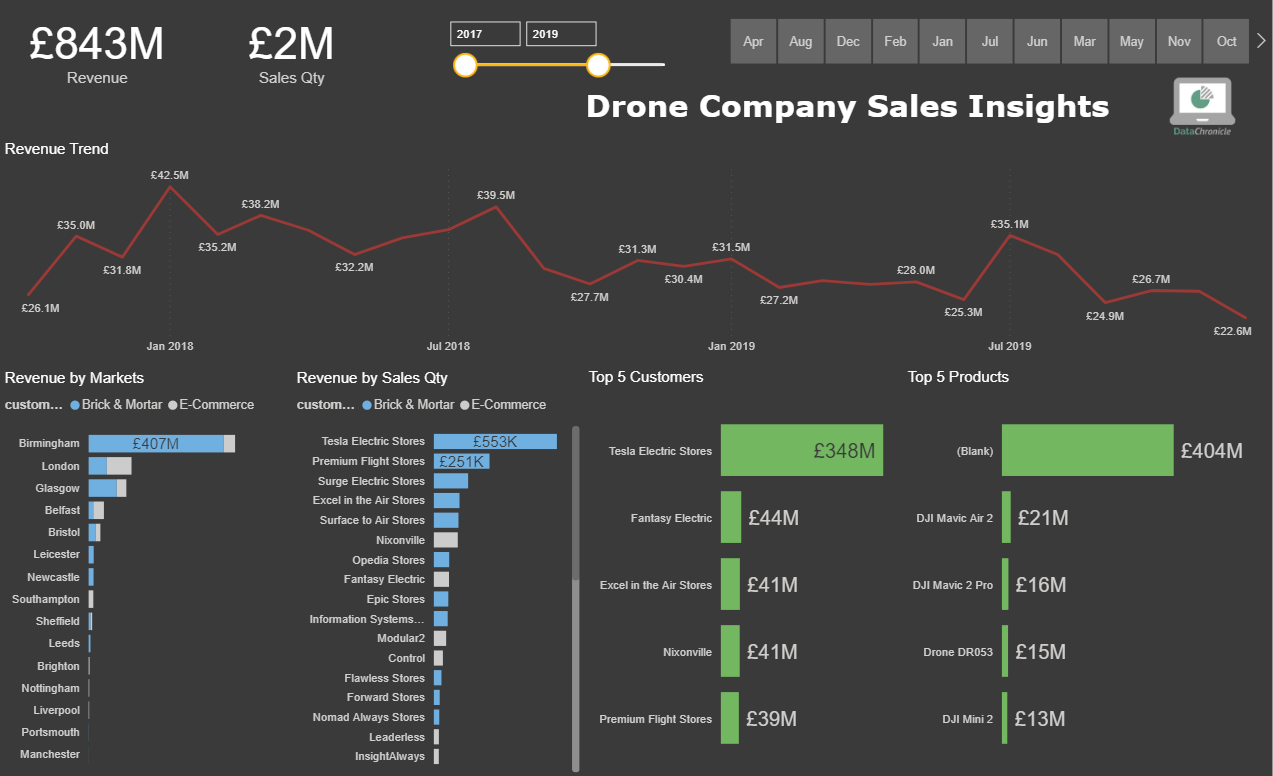

The dashboard page shown, as its layout file describes it:
{"tool":"powerbi","page":{"name":"Key Insights","canvas":[1340,820],"ordinal":0},"visuals":[{"type":"card","fields":{"Values":["base measures.Revenue"]},"box":[0,1,205.2,101.5],"z":0},{"type":"card","fields":{"Values":["base measures.Sales Qty"]},"box":[205.2,1,204.1,101.5],"z":1000},{"type":"barChart","title":"Revenue by Markets","fields":{"Y":["base measures.Revenue"],"Category":["sales markets.markets_name"],"Series":["sales customers.customer_type"]},"box":[0,390.5,307.6,429.5],"z":2000},{"type":"barChart","title":"Revenue by Sales Qty","fields":{"Y":["base measures.Sales Qty"],"Category":["sales customers.custmer_name"],"Series":["sales customers.customer_type"]},"box":[307.6,390.5,307.6,429.5],"z":3000},{"type":"slicer","fields":{"Values":["sales date.year"]},"box":[461.6,13.9,259.7,74.8],"z":4000},{"type":"barChart","title":"Top 5 Customers","fields":{"Y":["base measures.Revenue"],"Category":["sales customers.custmer_name"]},"box":[615.5,390,346.2,429.6],"z":5000},{"type":"barChart","title":"Top 5 Products","fields":{"Y":["base measures.Revenue"],"Category":["products.product_name"]},"box":[951.1,389.9,378.1,429.8],"z":6000},{"type":"slicer","fields":{"Values":["date.short_month_name"]},"box":[743.7,0,596.3,74.8],"z":7000},{"type":"lineChart","title":"Revenue Trend","fields":{"Category":["sales date.cy_date"],"Y":["base measures.Revenue"]},"box":[0,149.6,1340,231.9],"z":8000},{"type":"textbox","box":[461.6,100.4,867.7,49.2],"z":9000}]}

Visuals, with their boxes in screenshot pixels (x1, y1, x2, y2), scaled from the page's 1340x820 canvas onto the 1273x776 screenshot:
card - base measures.Revenue: bbox=(0, 1, 195, 97)
card - base measures.Sales Qty: bbox=(195, 1, 389, 97)
"Revenue by Markets" barChart: bbox=(0, 370, 292, 775)
"Revenue by Sales Qty" barChart: bbox=(292, 370, 584, 775)
slicer - sales date.year: bbox=(439, 13, 685, 84)
"Top 5 Customers" barChart: bbox=(585, 369, 914, 775)
"Top 5 Products" barChart: bbox=(904, 369, 1263, 775)
slicer - date.short_month_name: bbox=(707, 0, 1272, 71)
"Revenue Trend" lineChart: bbox=(0, 142, 1272, 361)
textbox: bbox=(439, 95, 1263, 142)
